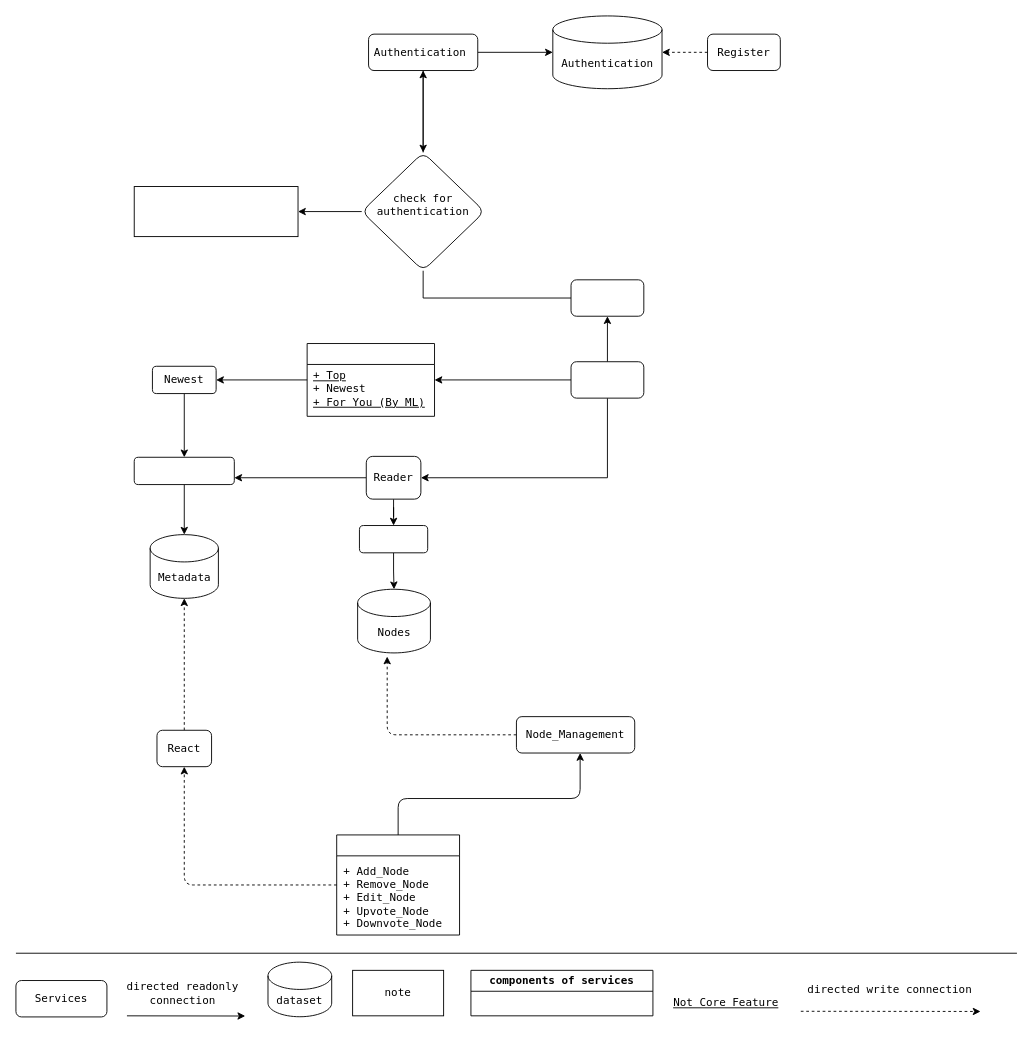
The diagram is 1034 pixels wide and 1039 high, and some of its shapes have lost their labels. The shapes that lost their labels are listed below. From the top down, each one's box as (x1, y1, x2, y2) in pixels, then its label:
(133, 186, 298, 237): If authenticated, return/validate token
(570, 279, 644, 316): Login
(306, 343, 435, 416): Feeds
(570, 361, 644, 398): Home
(133, 456, 234, 485): Node_Metadata
(359, 525, 428, 553): Node_Data
(336, 834, 460, 935): Interactions
